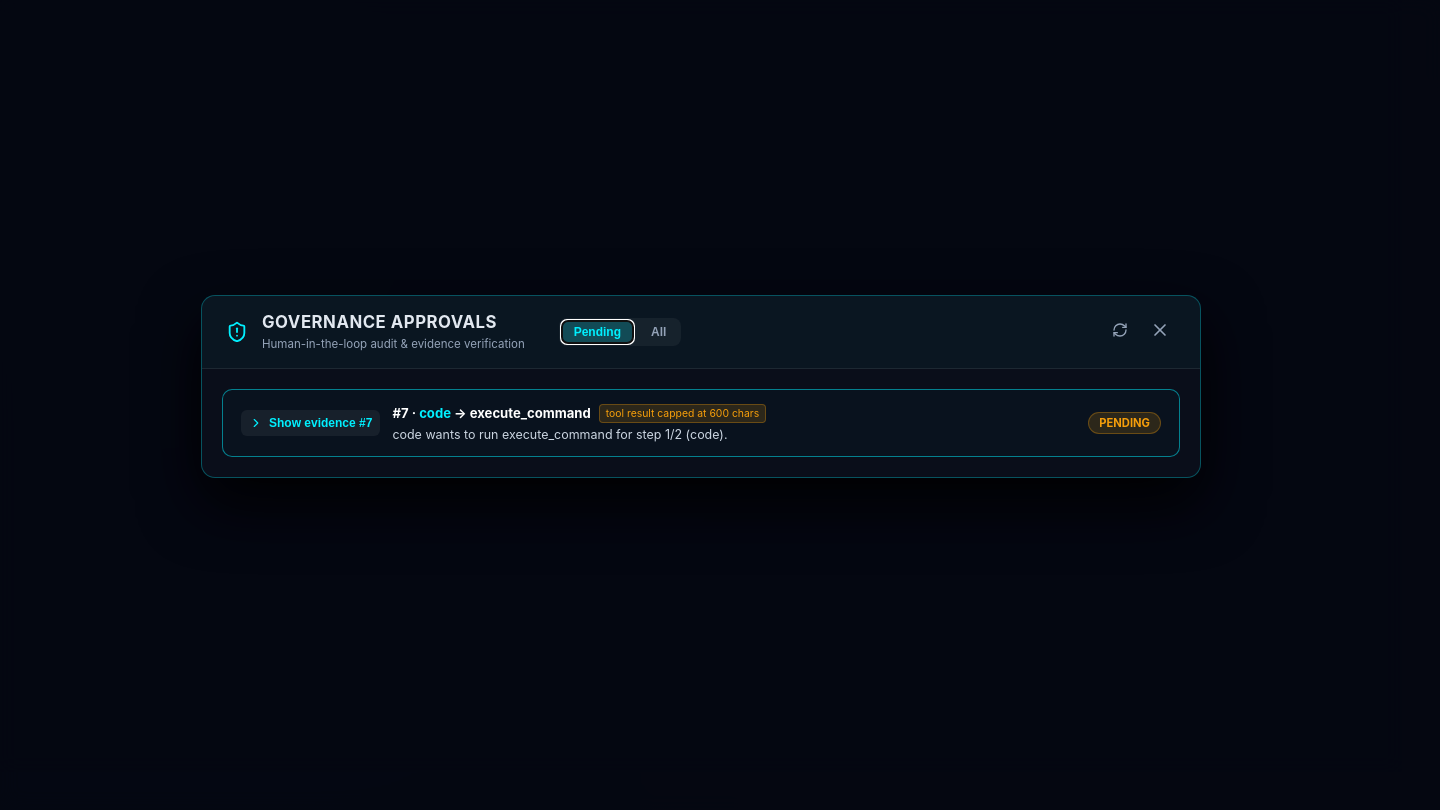
ApprovalsModal › shows explicit empty state when plan is missing
Click the button "Show evidence #7" at (311, 422), box [241,410,380,436]
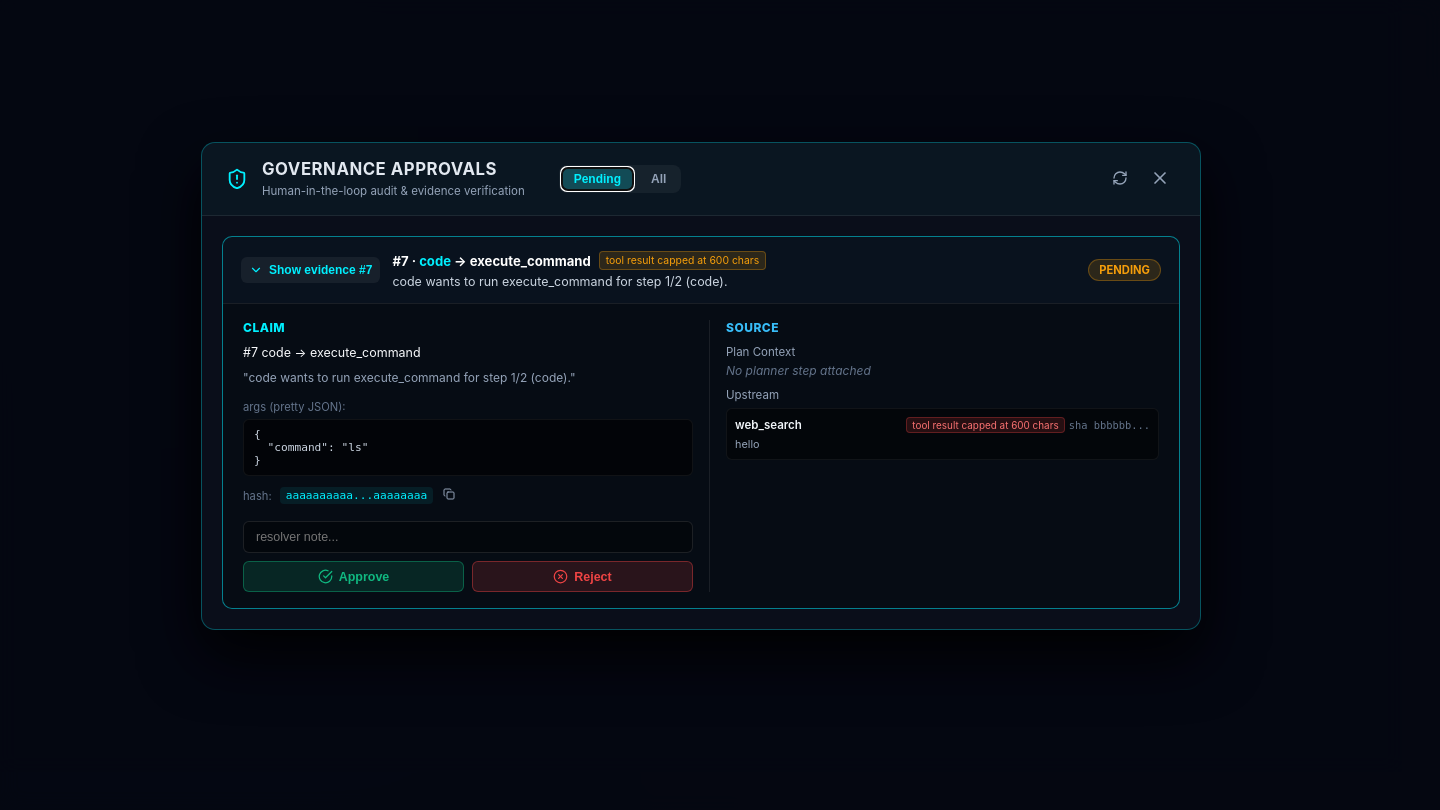
Now the text "No planner step attached" is shown, box [726,363,871,378]
